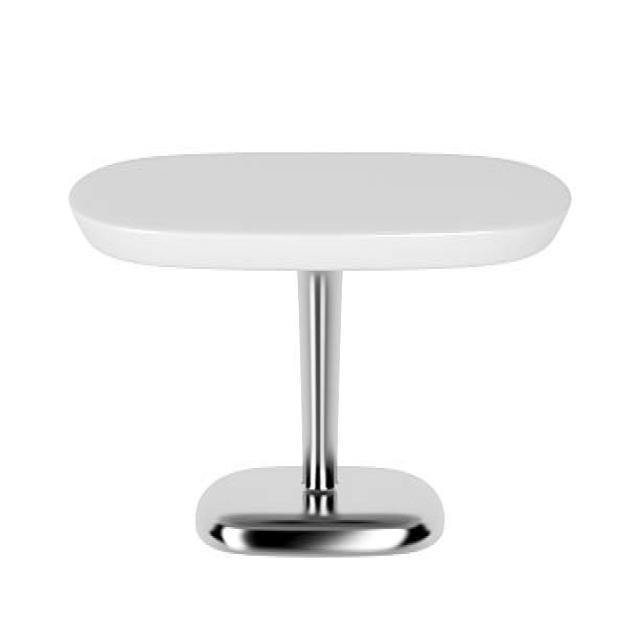table: (68, 147, 571, 558)
